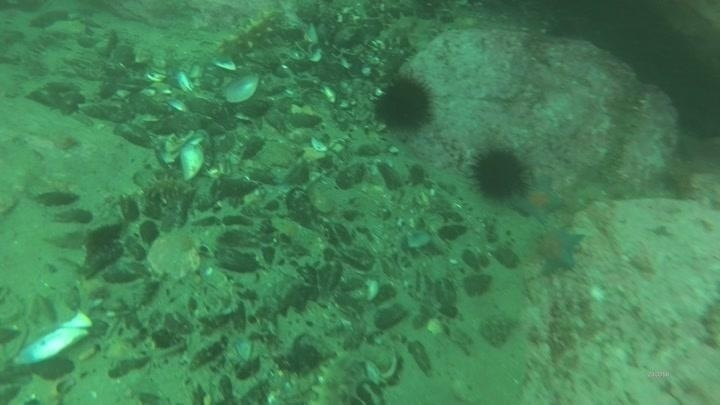echinus: (371, 73, 437, 134), (468, 145, 531, 203)
holothurian: (309, 340, 399, 404), (217, 6, 286, 62), (372, 12, 441, 54), (6, 371, 65, 405)
scallop: (146, 228, 203, 283)
starfish: (510, 175, 566, 225), (533, 225, 586, 275)
